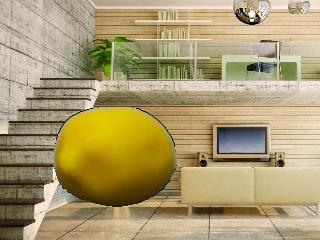lemon: (52, 105, 180, 208)
